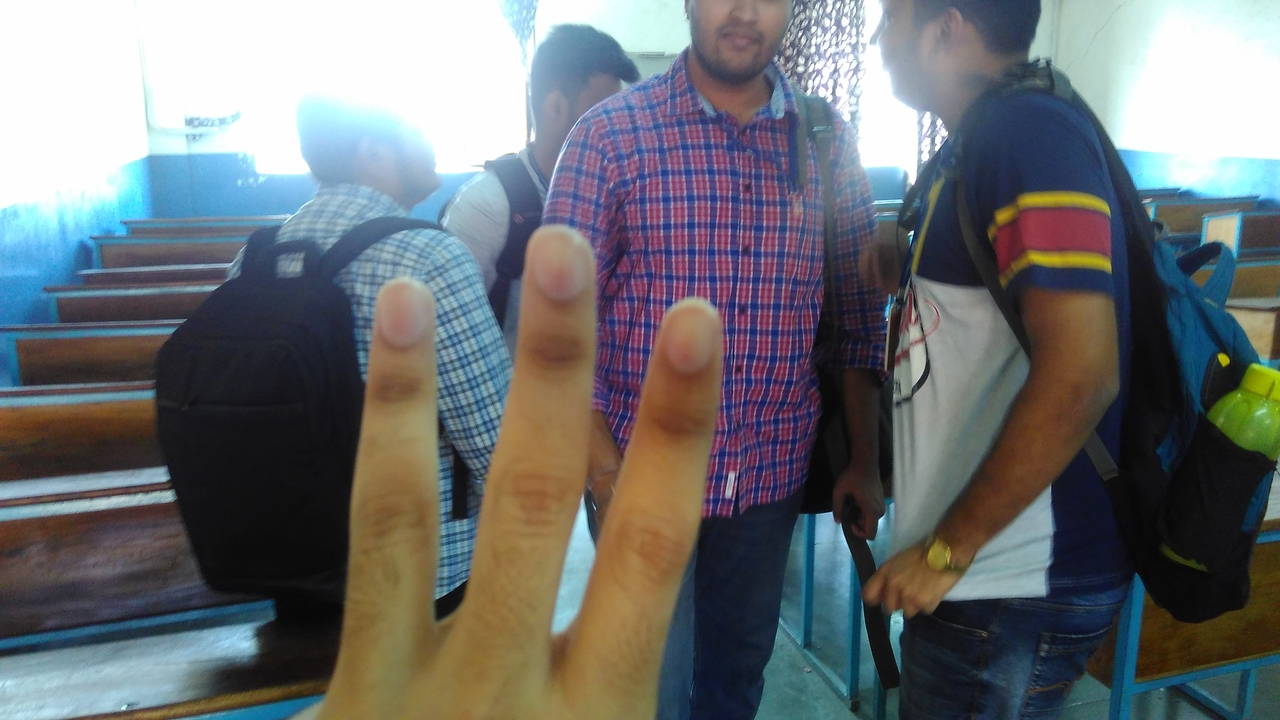fingertip: (514, 220, 592, 312), (644, 298, 724, 380), (370, 275, 434, 341)
